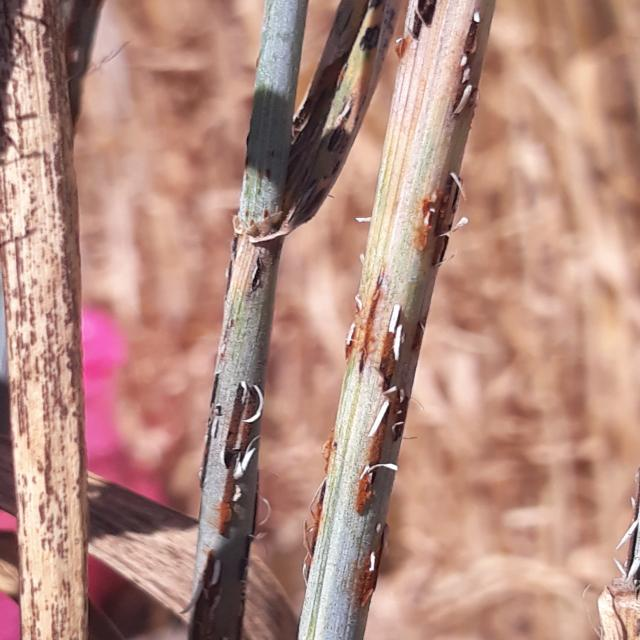black_stem_rust: (151, 3, 513, 640), (0, 0, 136, 640)
